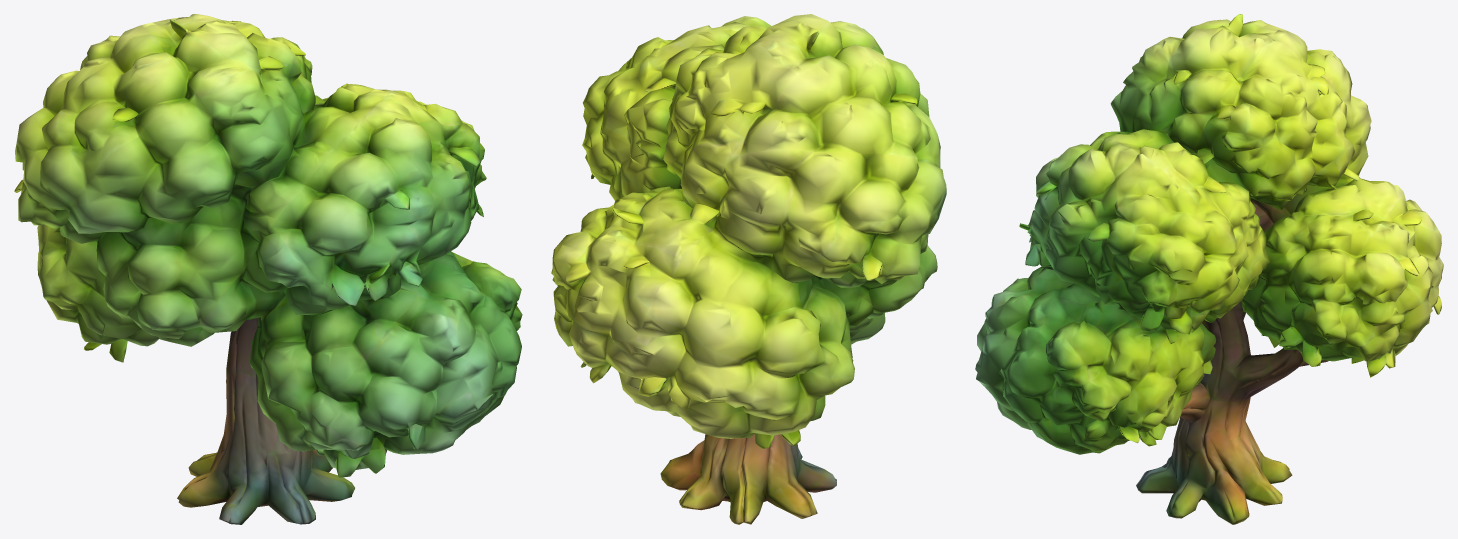
File: oak-low.glb
The picture shows the model from 3 angles, left to right: view 1: azimuth 30°, elevation 25°; view 2: azimuth 150°, elevation 25°; view 3: azimuth 270°, elevation 25°; orthographic projection. The views are drawn at different scales.
Parts seen in each view (by area): view 1: tripo_node_5c9d3df0-1abe-4f49-986a-10d224479850; view 2: tripo_node_5c9d3df0-1abe-4f49-986a-10d224479850; view 3: tripo_node_5c9d3df0-1abe-4f49-986a-10d224479850.
Boxes of the visible parts, x1,y1,x2,y2 form: tripo_node_5c9d3df0-1abe-4f49-986a-10d224479850: (14,14,522,524); tripo_node_5c9d3df0-1abe-4f49-986a-10d224479850: (551,14,946,524); tripo_node_5c9d3df0-1abe-4f49-986a-10d224479850: (975,14,1443,524).
Bounding box in the file's own units: 0.8472 × 0.9973 × 0.9582.
Materials: 1 (1 with a texture image).
